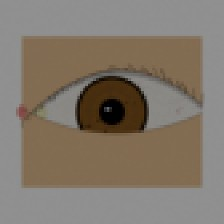pinguecula_lesion: (24, 101, 54, 125)
